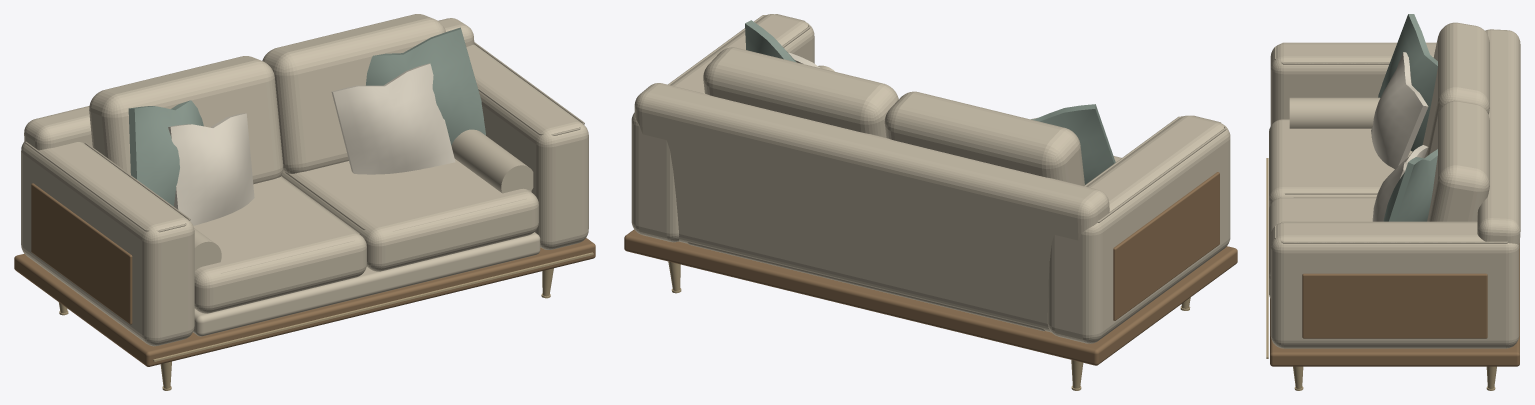
Rendered from milano-oat-2.glb.
The picture shows the model from 3 angles, left to right: view 1: azimuth 30°, elevation 25°; view 2: azimuth 150°, elevation 25°; view 3: azimuth 270°, elevation 25°; orthographic projection. The views are drawn at different scales.
Bounding box in the file's own units: 1.7 × 0.8344 × 0.8932.
